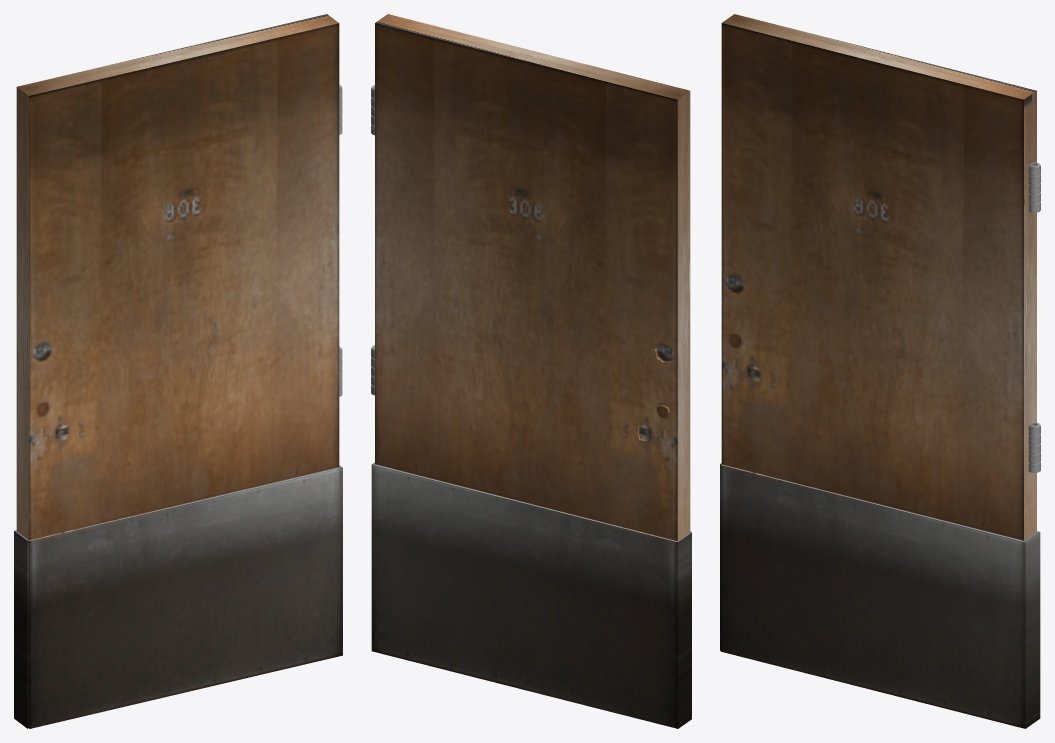
The model's file is pUERTA_fiX.fbx.
3 renders of one model, left to right at view 1: azimuth 30°, elevation 25°; view 2: azimuth 150°, elevation 25°; view 3: azimuth 330°, elevation 25°, orthographic.
Parts seen in each view (by area): view 1: puerta 2.001; view 2: puerta 2.001; view 3: puerta 2.001.
Boxes of the visible parts, x1,y1,x2,y2 form: puerta 2.001: (14, 14, 342, 728); puerta 2.001: (371, 14, 691, 728); puerta 2.001: (720, 14, 1040, 728).
Size of the model in its own units: 332 by 631 by 32.18.
